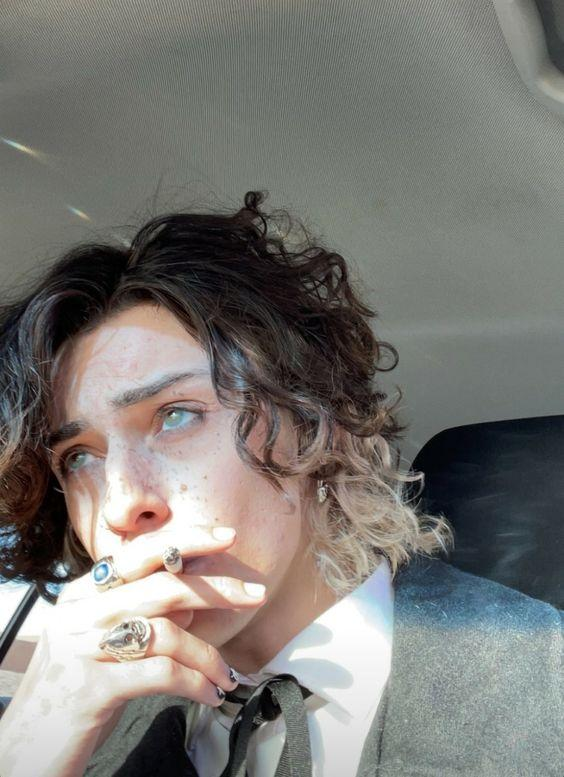cigarette: (161, 545, 183, 574)
